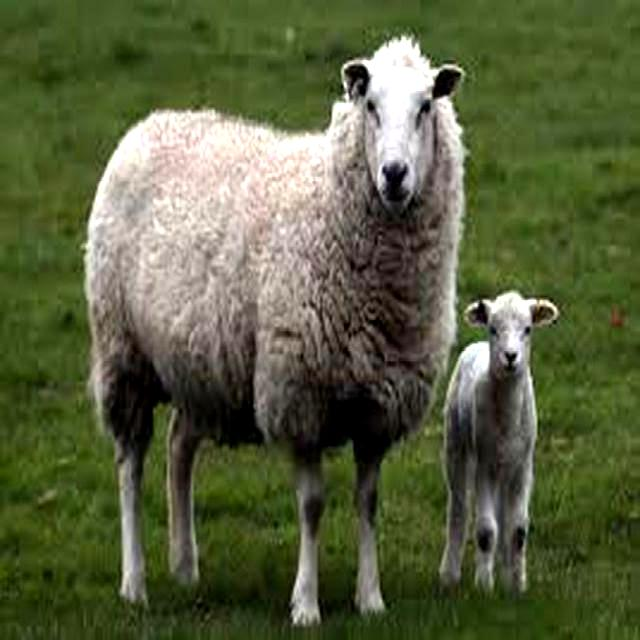sheep: (84, 43, 467, 630), (440, 290, 562, 594)
